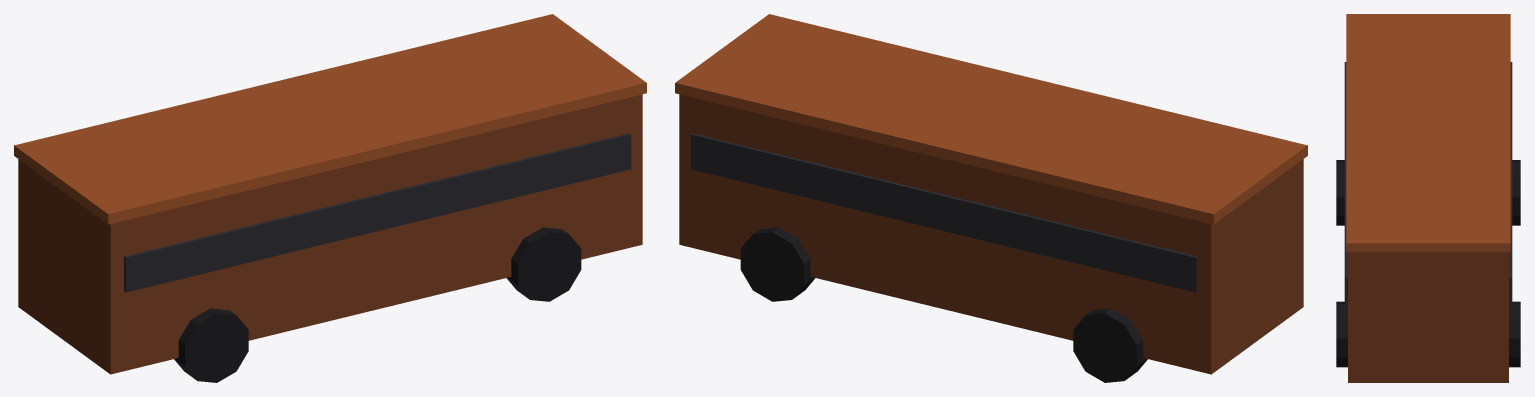
The model's file is burnt_bus.glb.
3 views of the same model, side by side, from view 1: azimuth 30°, elevation 25°; view 2: azimuth 150°, elevation 25°; view 3: azimuth 270°, elevation 25° (orthographic). The views are drawn at different scales.
Parts seen in each view (by area): view 1: burnt_bus; view 2: burnt_bus; view 3: burnt_bus.
Boxes of the visible parts, x1,y1,x2,y2 form: burnt_bus: [14, 14, 646, 382]; burnt_bus: [675, 14, 1307, 382]; burnt_bus: [1336, 14, 1520, 382].
Bounding box in the file's own units: 8.1 × 2.73 × 2.75.
